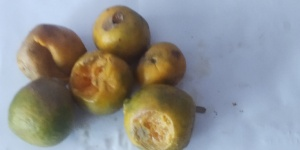BAD: (124, 76, 199, 150), (7, 83, 73, 146), (17, 23, 85, 84), (72, 50, 130, 117), (92, 3, 151, 64), (139, 42, 182, 91)
